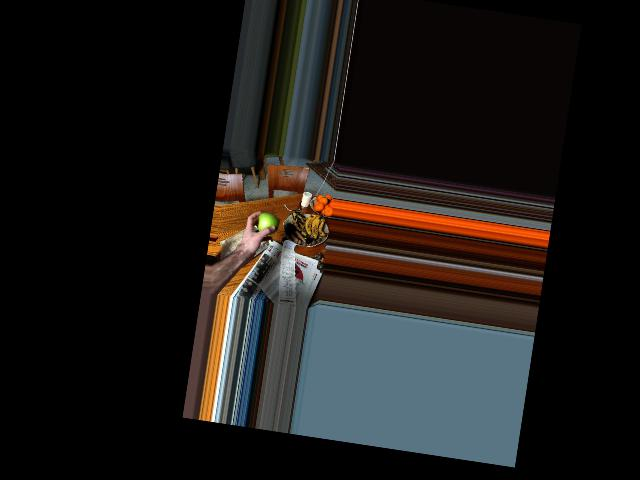apple: (255, 210, 279, 238)
